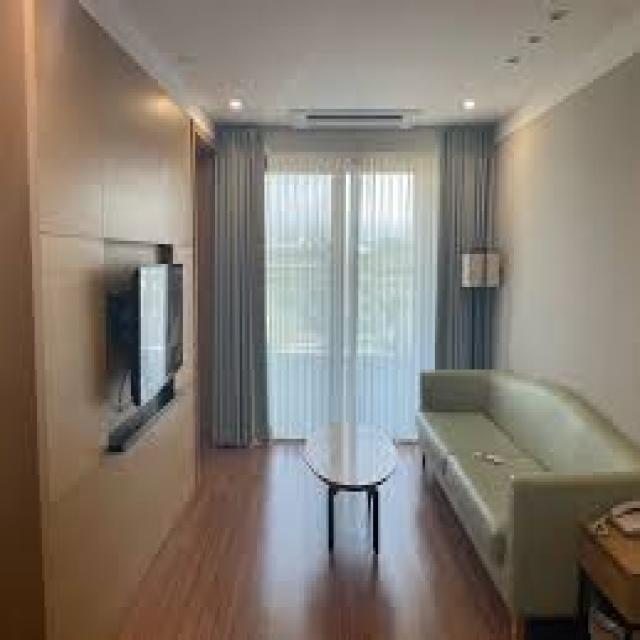Sofa: (419, 366, 640, 628)
Table: (308, 416, 398, 555)
tv: (132, 261, 186, 404)
window: (205, 131, 496, 376)
